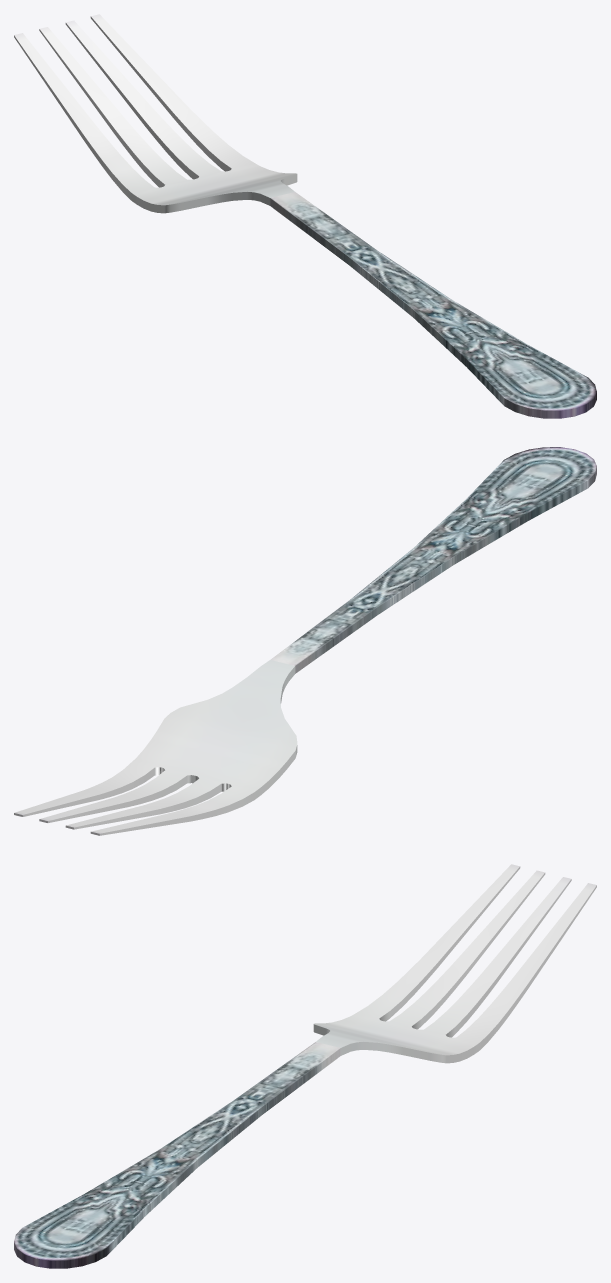
Rendered from fork_B.fbx.
The picture shows the model from 3 angles, top to bottom: view 1: azimuth 30°, elevation 25°; view 2: azimuth 150°, elevation 25°; view 3: azimuth 330°, elevation 25°; orthographic projection.
Visible parts, largest first — view 1: fork_B; view 2: fork_B; view 3: fork_B.
Part boxes in pixels (left/top/right/bottom): fork_B: left=14, top=14, right=596, bottom=418; fork_B: left=14, top=447, right=596, bottom=835; fork_B: left=14, top=864, right=596, bottom=1268.
Bounding box in the file's own units: 1.49 × 0.6659 × 10.16.
Materials: 1 (1 with a texture image).
